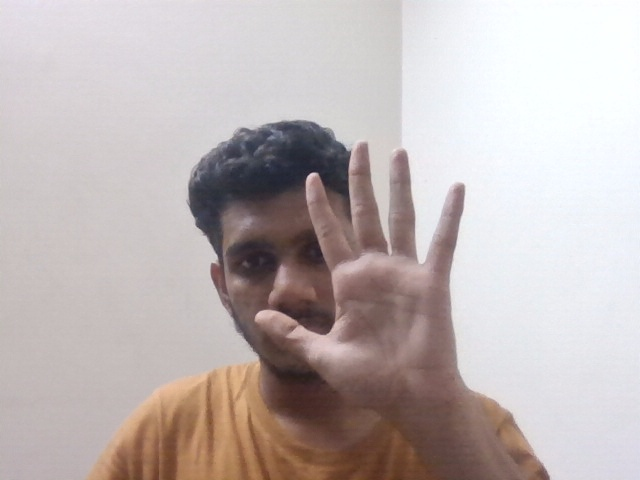hello: (254, 131, 498, 412)
